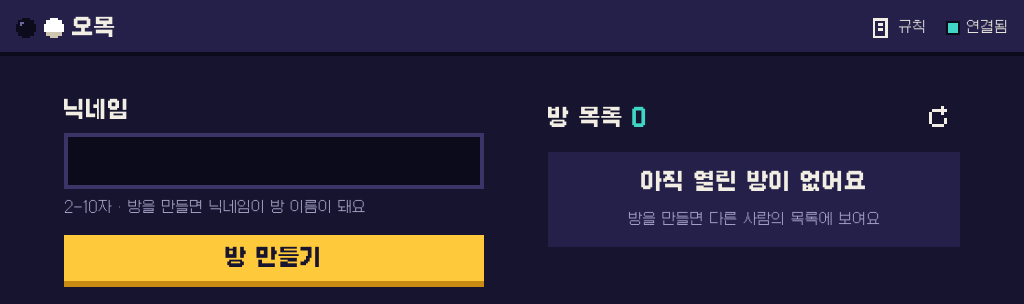
Scenario: HomeScreen › 닉네임이 2자보다 짧으면 입력칸 아래에 알려주고 서버에 보내지 않아요
In the field labelled "닉네임": x=274, y=161 [64,133,484,189], type "지"
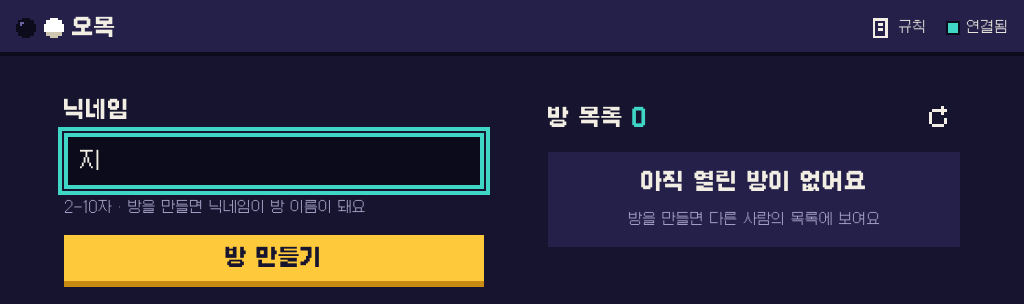
Click the button "방 만들기": x=274, y=261 [64,235,484,287]
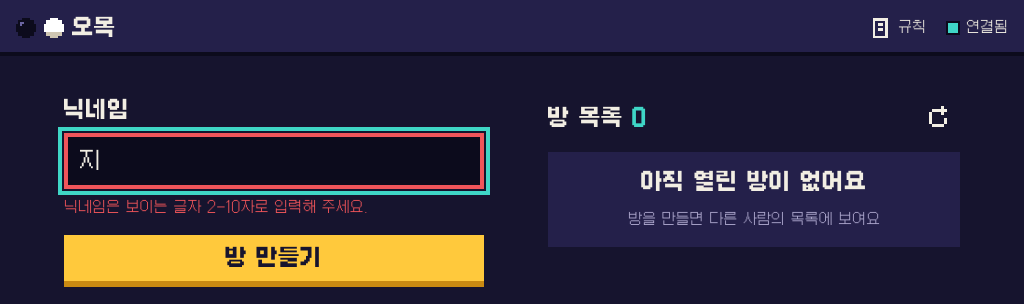
Expected: the text "닉네임은 보이는 글자 2–10자로 입력해 주세요." is shown, [64,199,368,216]
